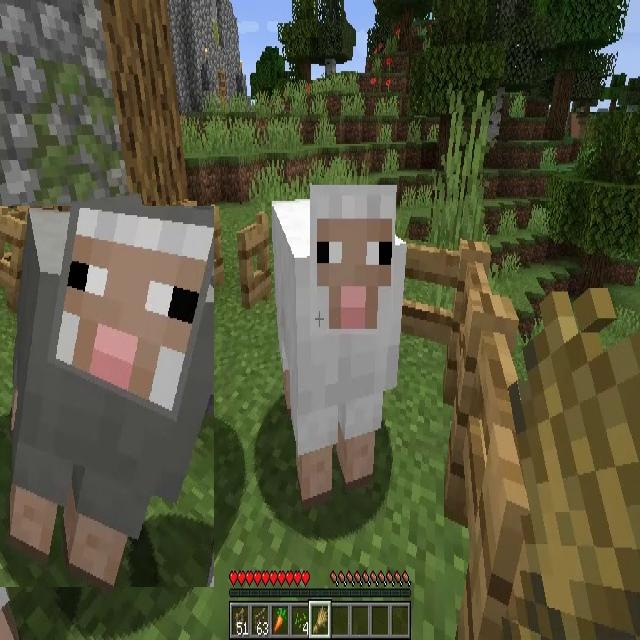sheep: (0, 206, 214, 587), (270, 182, 407, 502)
